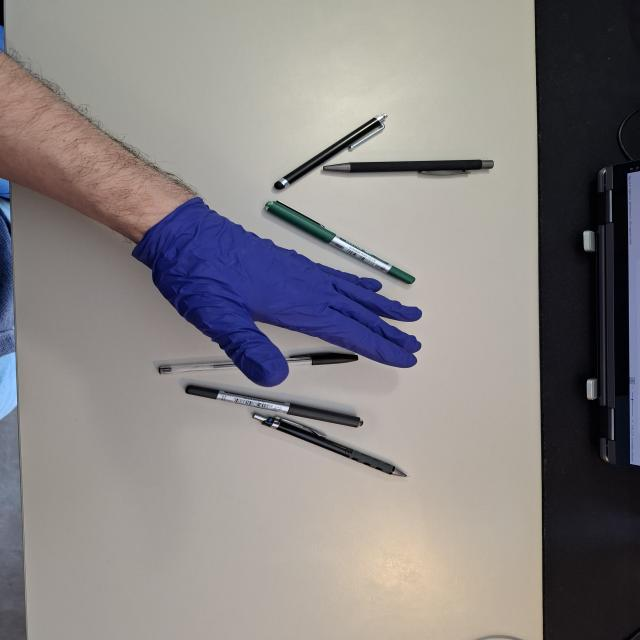glove_on: (129, 196, 426, 390)
